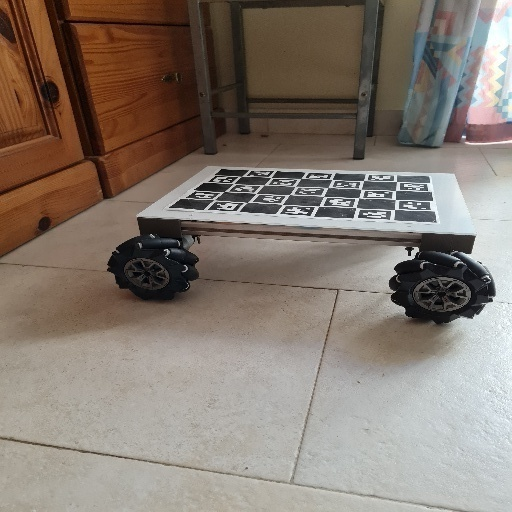Omniwheel: (107, 164, 498, 327)
